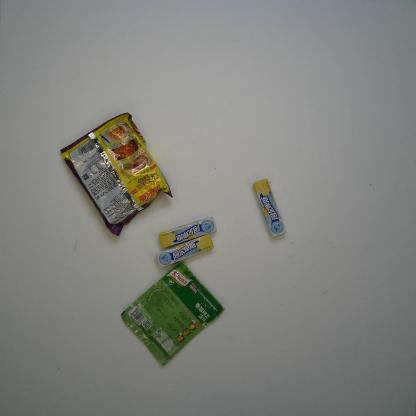Candy: (156, 232, 216, 271), (252, 176, 287, 239), (158, 214, 218, 249)
Instant Noodles: (58, 110, 172, 238)
Seasoner: (120, 259, 226, 368)
